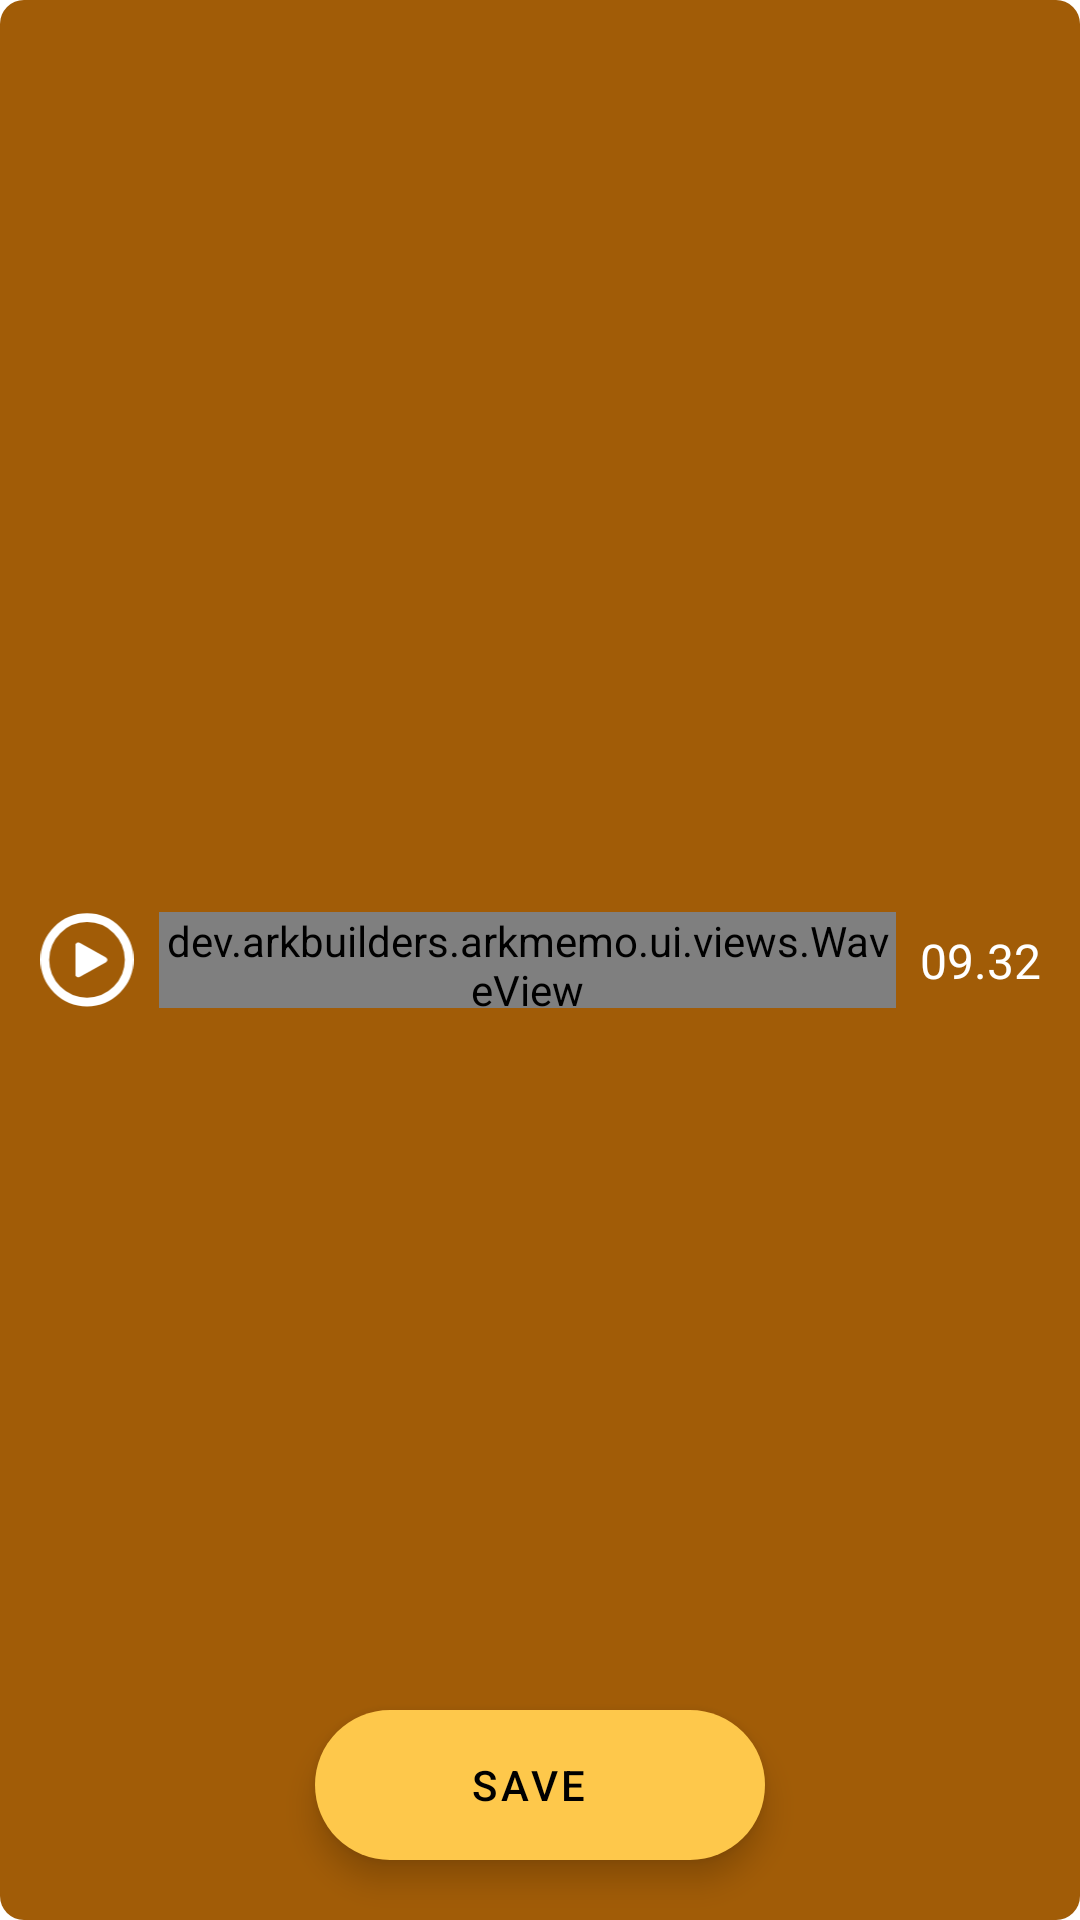

Locate icon controls on the screen. Image size 1080x1920, boxes as [x1, y1, x2, y2].
Play/Pause: [40, 913, 134, 1007]
